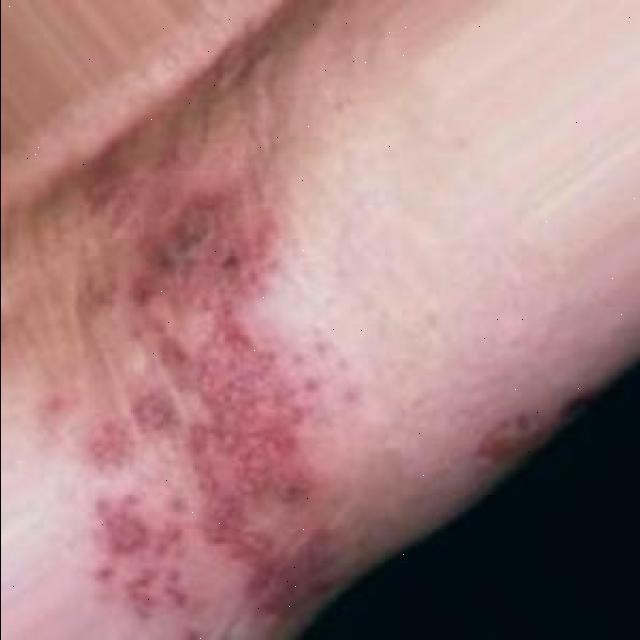Shingles: (85, 200, 331, 639)
